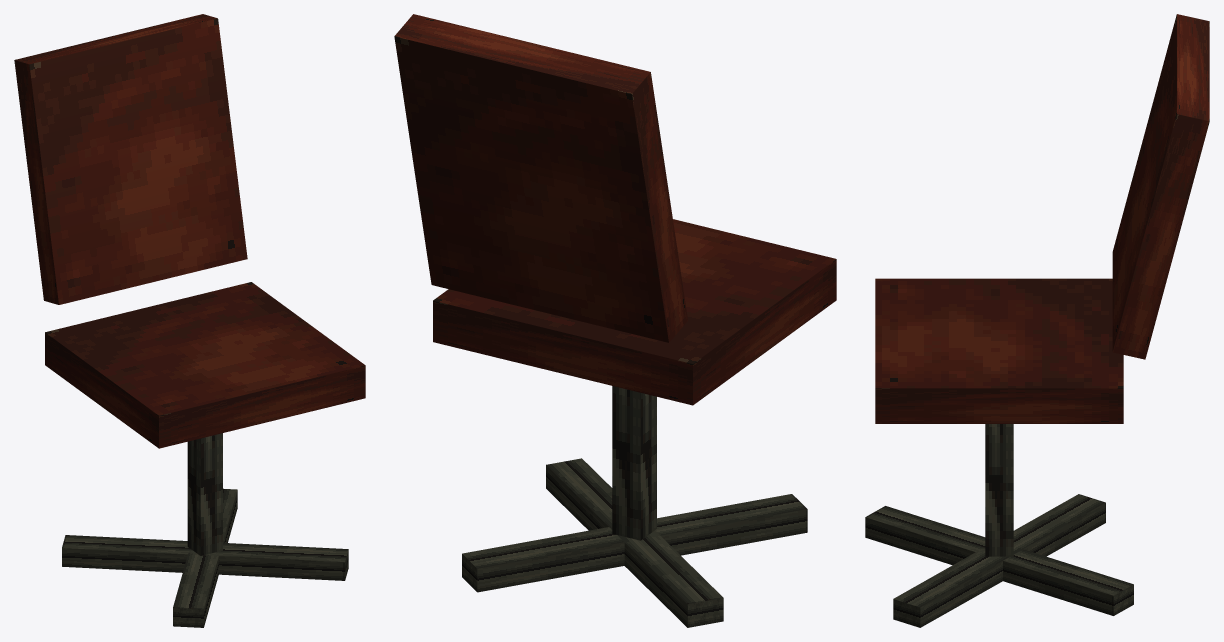
Rendered from prop_officechair-2.glb.
3 renders of one model, left to right at view 1: azimuth 30°, elevation 25°; view 2: azimuth 150°, elevation 25°; view 3: azimuth 270°, elevation 25°, orthographic. The views are drawn at different scales.
Visible parts, largest first — view 1: prop_officechair-2; view 2: prop_officechair-2; view 3: prop_officechair-2.
Part boxes in pixels (box(x1,y1,x2,y2)): prop_officechair-2: box(14, 14, 365, 627); prop_officechair-2: box(394, 14, 836, 627); prop_officechair-2: box(865, 14, 1209, 627).
Size of the model in its own units: 0.4765 by 0.9922 by 0.6109.
Materials: 2 (2 with a texture image).
